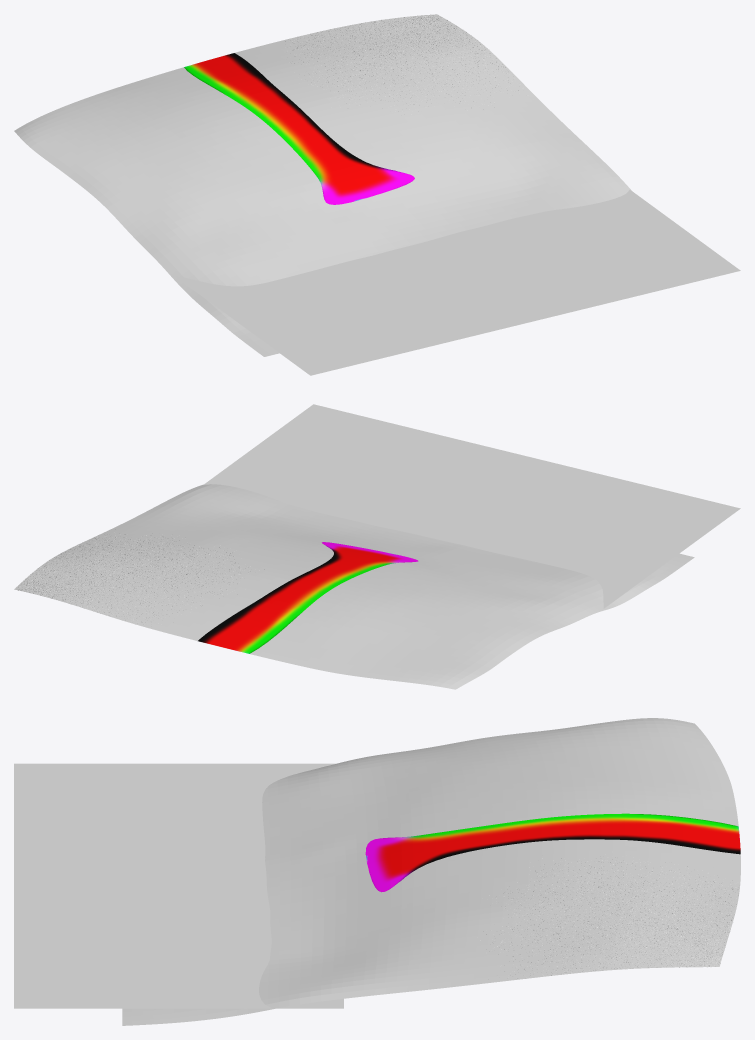
Rendered from demoTerrainBlend.fbx.
3 views of the same model, one above another, from view 1: azimuth 30°, elevation 25°; view 2: azimuth 150°, elevation 25°; view 3: azimuth 270°, elevation 25° (orthographic). The views are drawn at different scales.
Parts seen in each view (by area): view 1: water.001, Plane.183, Plane.187, Plane.185, Plane.184, grass; view 2: water.001, Plane.185, Plane.187, Plane.183, Plane.184, grass; view 3: water.001, Plane.187, Plane.183, Plane.185, Plane.184, grass.
Part boxes in pixels (x1,y1,x2,y2): water.001: (173,190,740,375); Plane.183: (134,125,631,356); Plane.187: (235,14,564,168); Plane.185: (14,67,320,237); Plane.184: (184,53,414,204); grass: (285,14,523,114); water.001: (203,404,740,608); Plane.185: (250,563,570,689); Plane.187: (14,516,333,640); Plane.183: (137,484,694,623); Plane.184: (198,542,418,653); grass: (15,533,264,624); water.001: (14,763,343,1008); Plane.187: (406,839,740,989); Plane.183: (122,749,425,1025); Plane.185: (405,718,738,836); Plane.184: (365,813,740,892); grass: (480,855,738,978).
Bounding box in the file's own units: 103 × 13.31 × 125.
